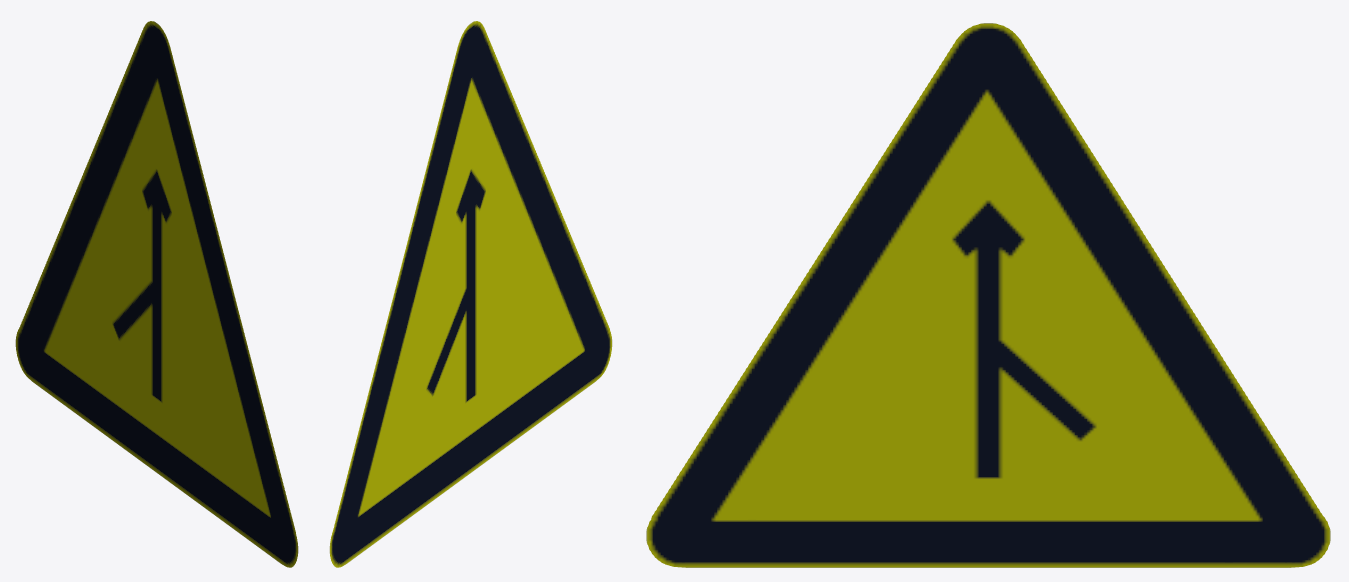
File: SM_TPP_A.fbx
The picture shows the model from 3 angles, left to right: view 1: azimuth 30°, elevation 25°; view 2: azimuth 150°, elevation 25°; view 3: azimuth 270°, elevation 25°; orthographic projection. The views are drawn at different scales.
Parts seen in each view (by area): view 1: SM_TPP_A; view 2: SM_TPP_A; view 3: SM_TPP_A.
Part boxes in pixels (x1,y1,x2,y2): SM_TPP_A: (15,21,298,567); SM_TPP_A: (329,21,612,567); SM_TPP_A: (646,23,1330,567).
Bounding box in the file's own units: 5.88e-08 × 0.865 × 0.9798.
